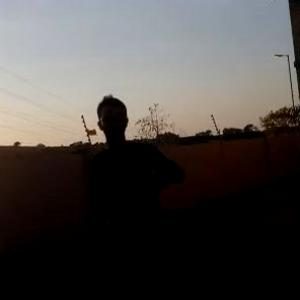follow: (75, 89, 185, 299)
